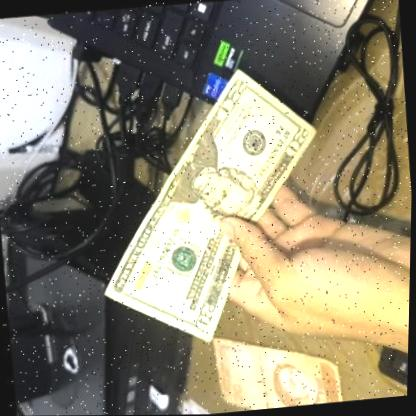twenty-front: (80, 55, 343, 354)
